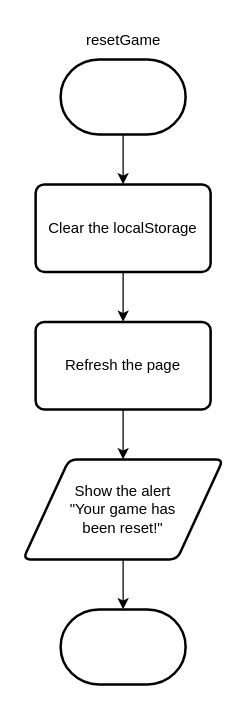
Image size: 245x706. Some labels were removed from this diagram. Here are the shapes that lost their labels. From the top down, the centre of each, then its label:
(122,96): Start
(122,646): Stop
